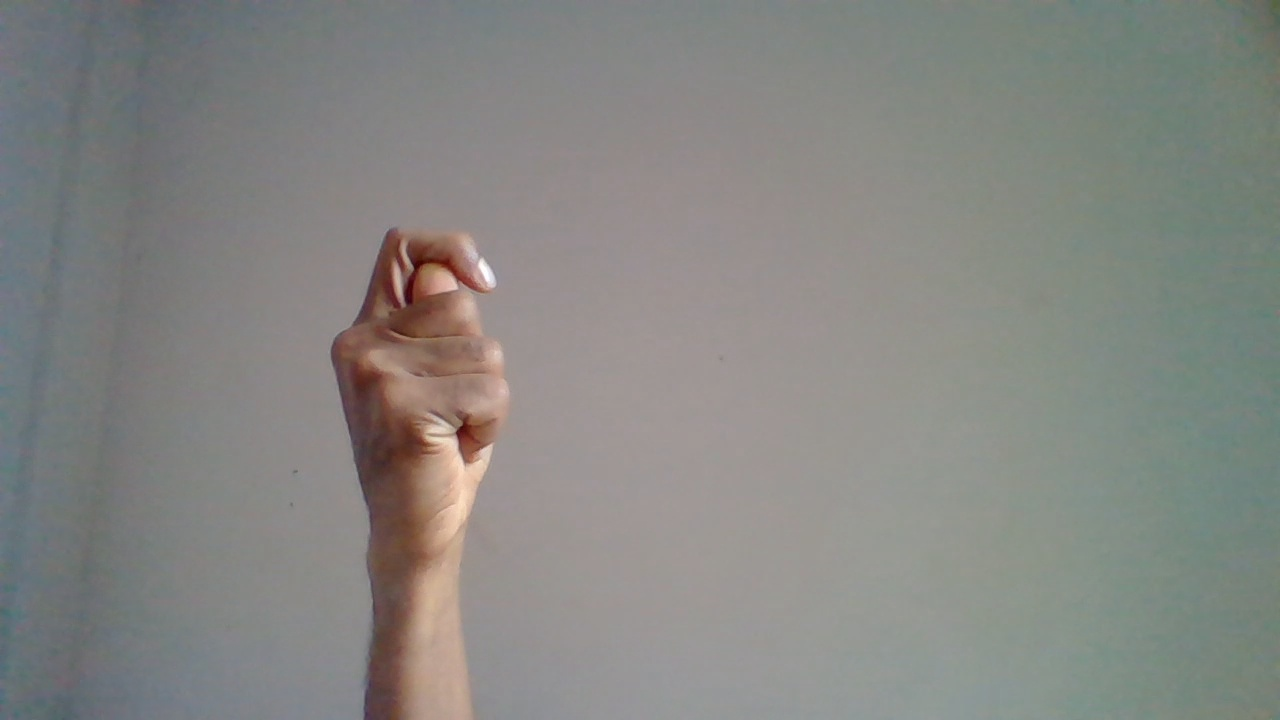che: (331, 222, 512, 667)
